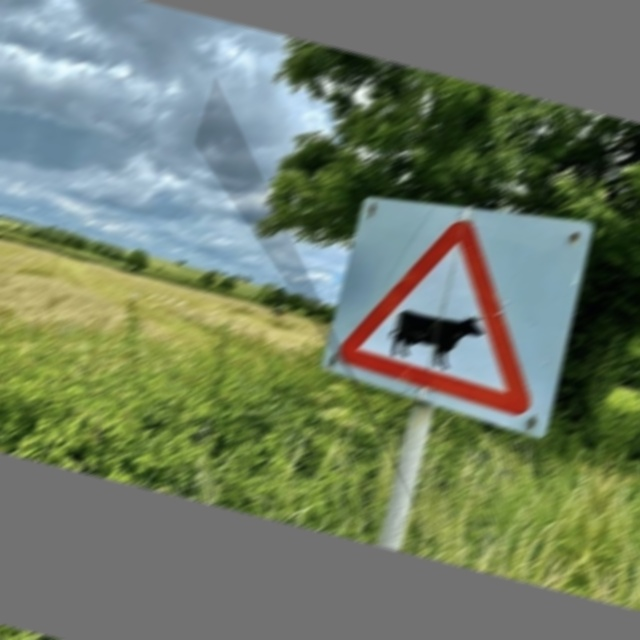Cattle: (325, 195, 574, 430)
